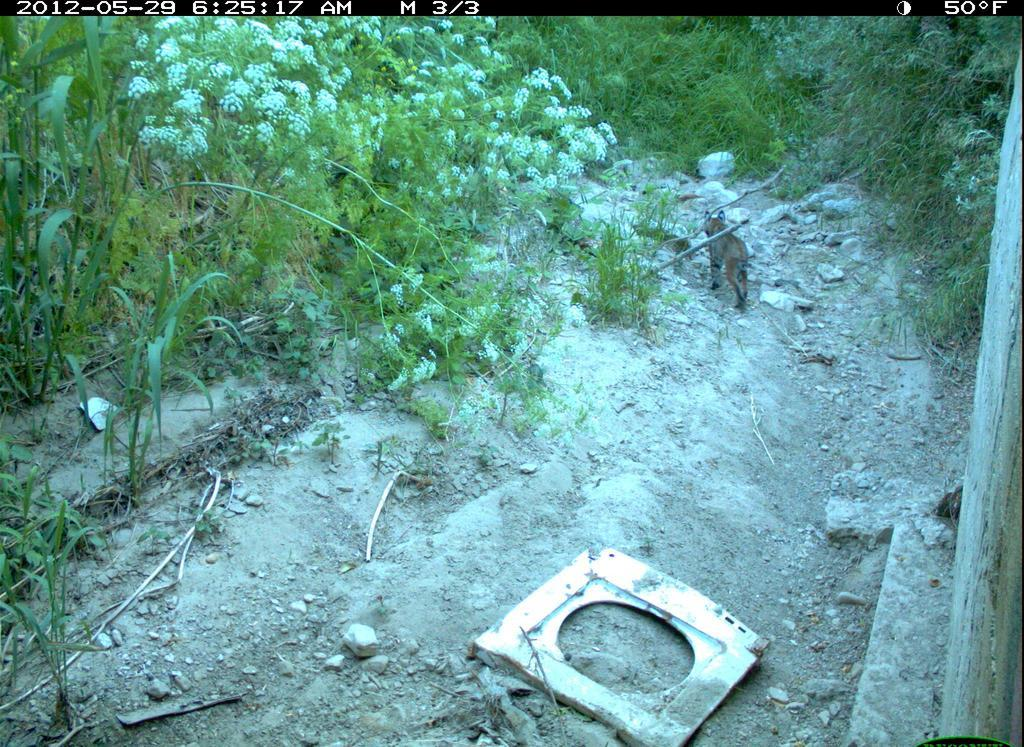bobcat: (698, 201, 763, 315)
